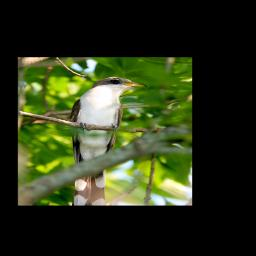Cuckoo: (68, 76, 149, 205)
